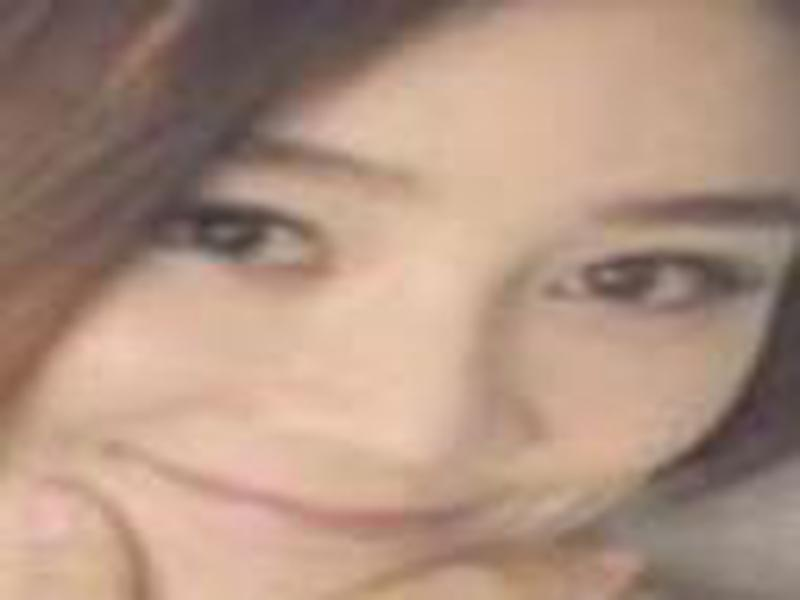without_mask: (24, 14, 798, 600)
